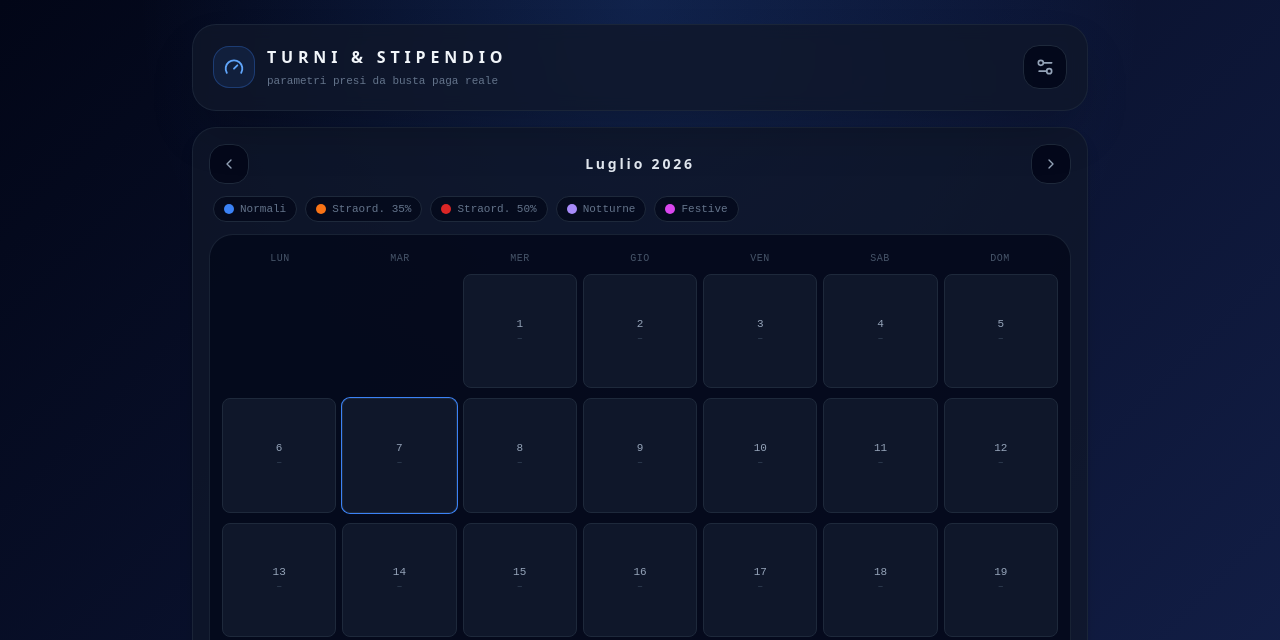
it: App › updates the default daily hours when the weekly schedule changes
Click the button named "impostazioni".
click(1045, 67)  # box [1023,45,1067,89]
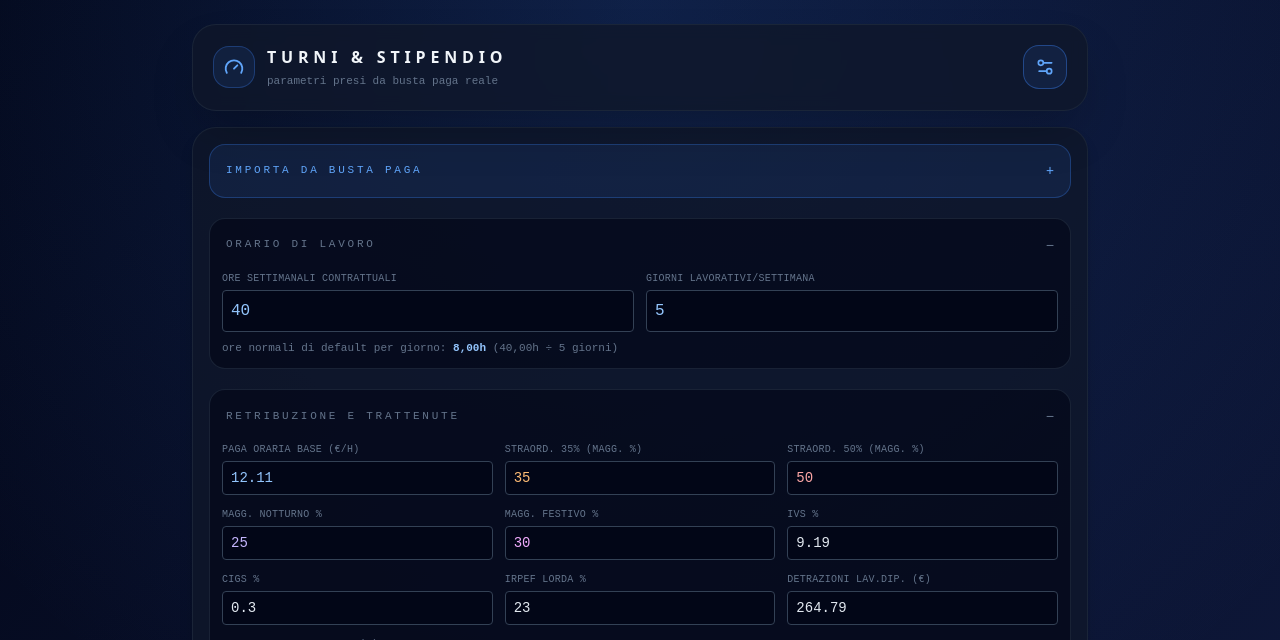
Replace the text in the number field showing "40" with "20" at point(428, 310), box [222,290,634,332]
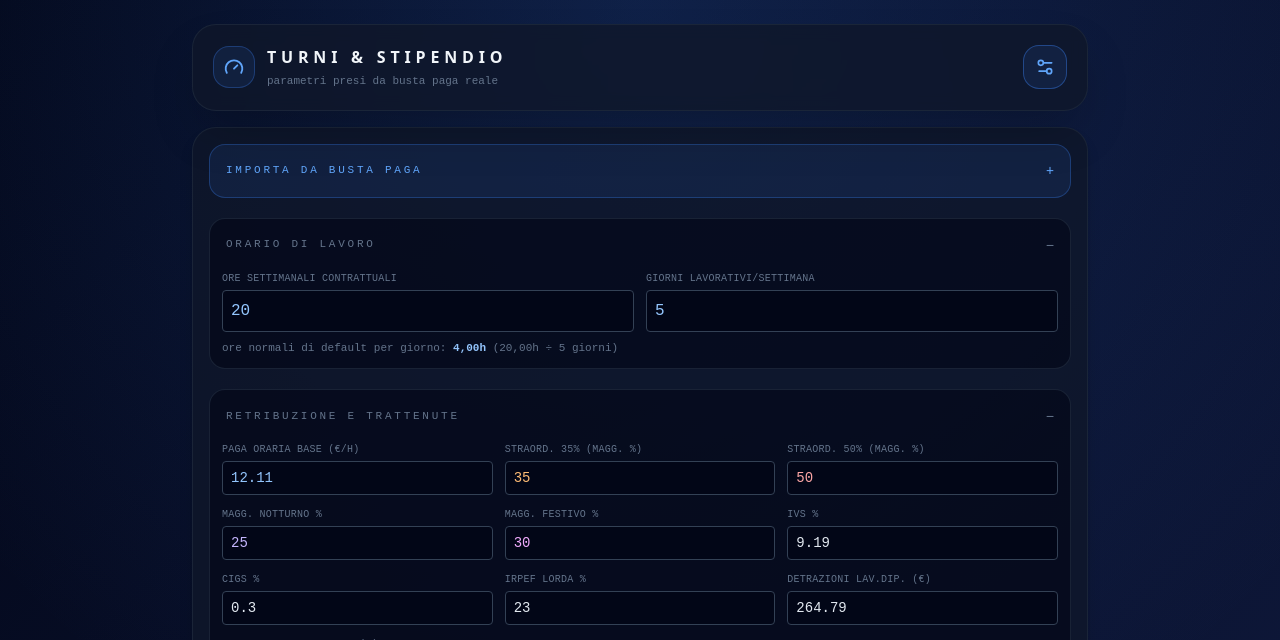
Replace the text in the number field showing "5" with "2" at point(852, 310), box [646,290,1058,332]
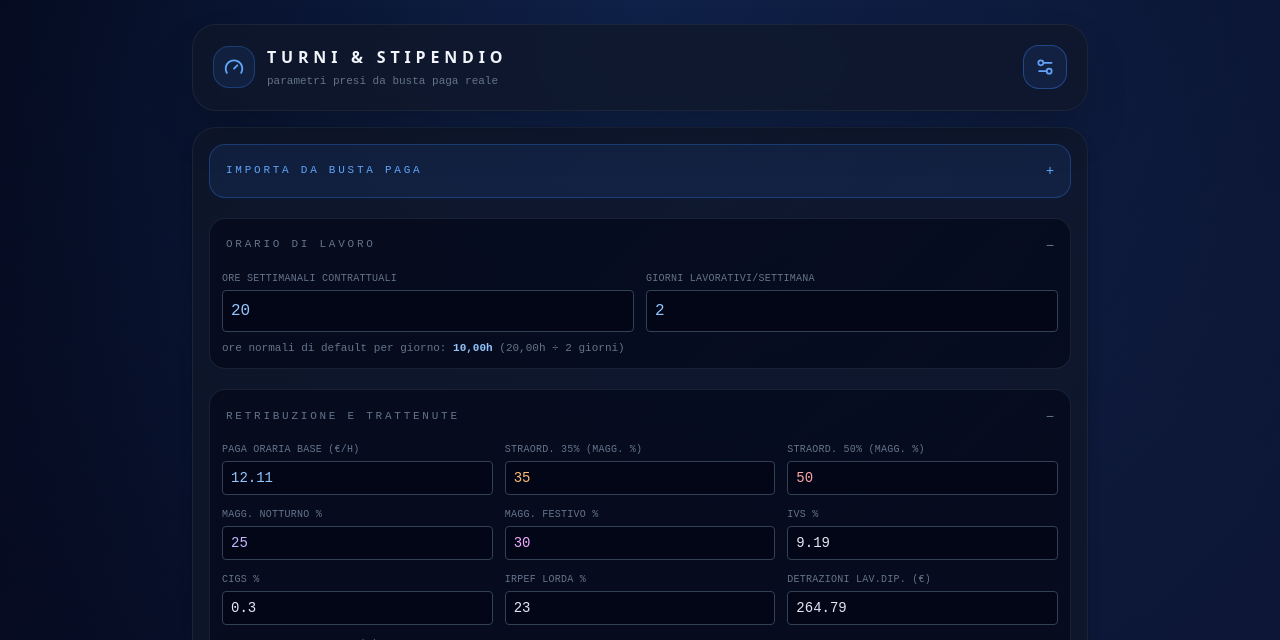
Check: the text "ore normali di default per giorno" shows "10,00h", box [222,342,625,354]
